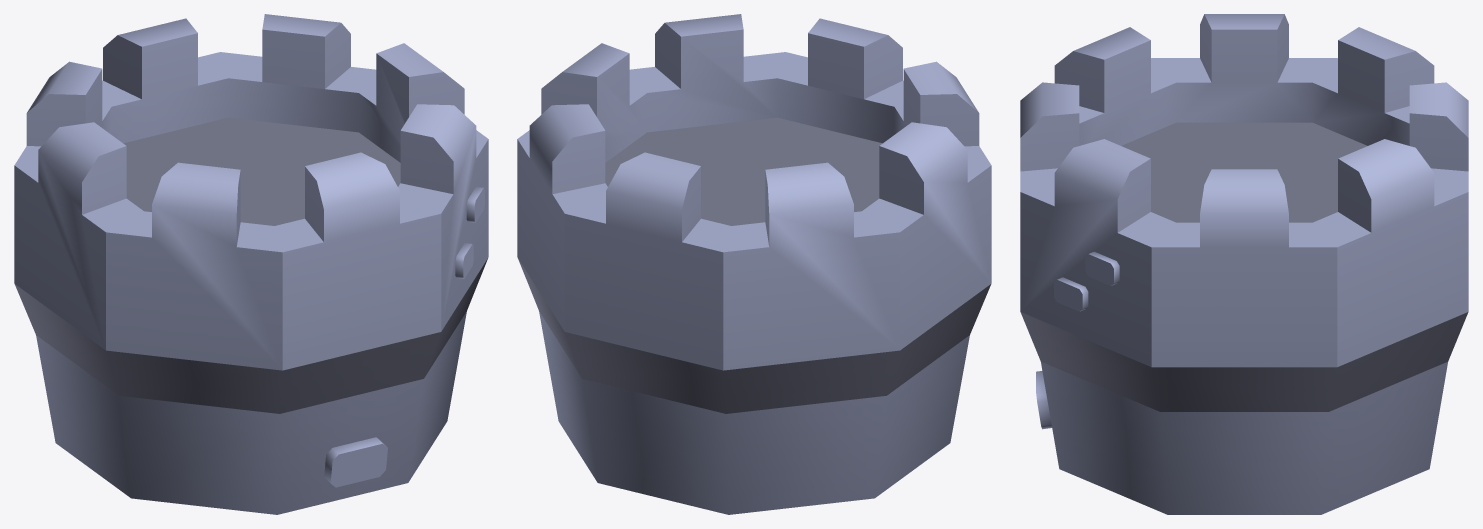
File: tower-top.glb
The picture shows the model from 3 angles, left to right: view 1: azimuth 30°, elevation 25°; view 2: azimuth 150°, elevation 25°; view 3: azimuth 270°, elevation 25°; orthographic projection.
Visible parts, largest first — view 1: tower-top; view 2: tower-top; view 3: tower-top.
Part boxes in pixels (box(x1,y1,x2,y2)): tower-top: box(14, 14, 488, 514); tower-top: box(517, 14, 991, 514); tower-top: box(1020, 14, 1468, 514).
Bounding box in the file's own units: 4.36 × 3.62 × 4.36.
1 material, 1 textured.
